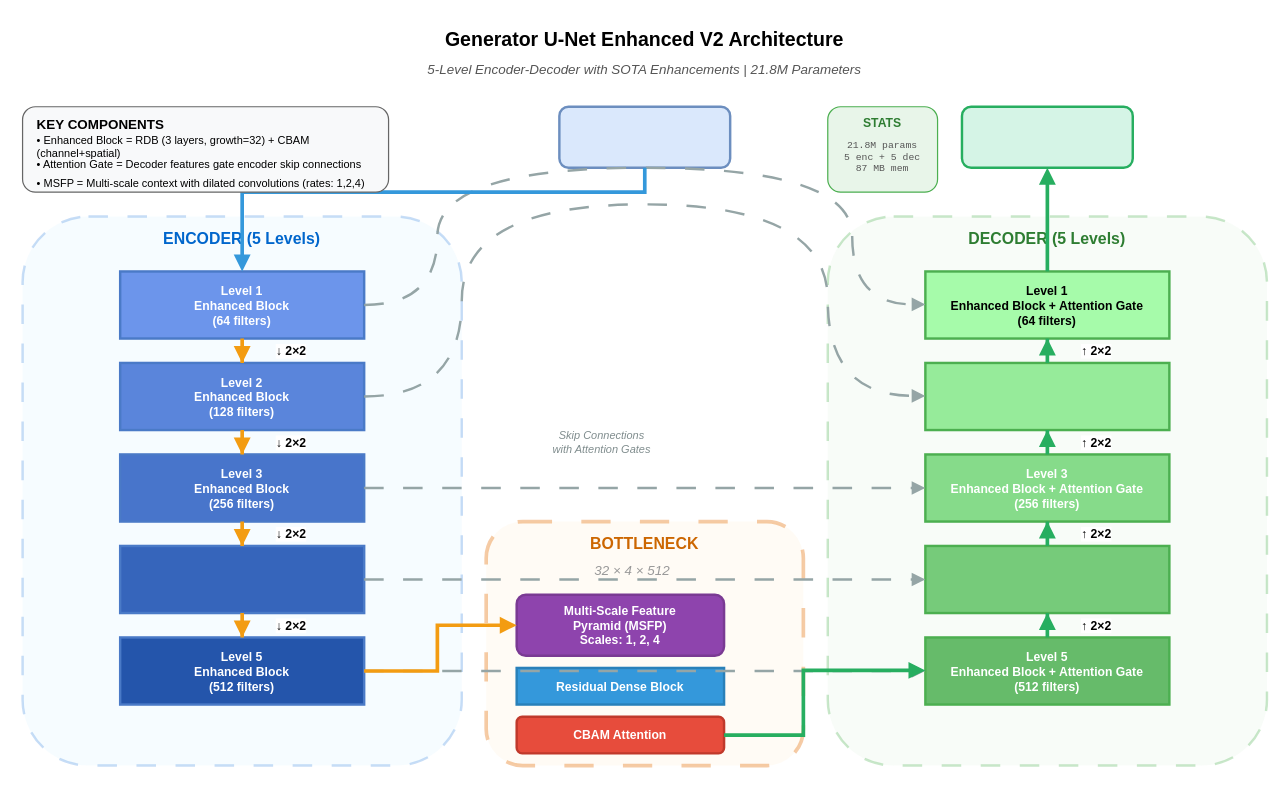
This 1288x788 diagram has some shape labels left out. The shapes that lost their labels are listed below. From the top down, each one's centre as x and y in pixels, then its label:
At pixel 644 136: "Input Image 1024 × 128 × 1".
At pixel 1046 136: "Restored Image 1024 × 128 × 1".
At pixel 1047 396: "Level 2 Enhanced Block + Attention Gate (128 filters)".
At pixel 241 579: "Level 4 Enhanced Block (512 filters)".
At pixel 1047 579: "Level 4 Enhanced Block + Attention Gate (512 filters)".
